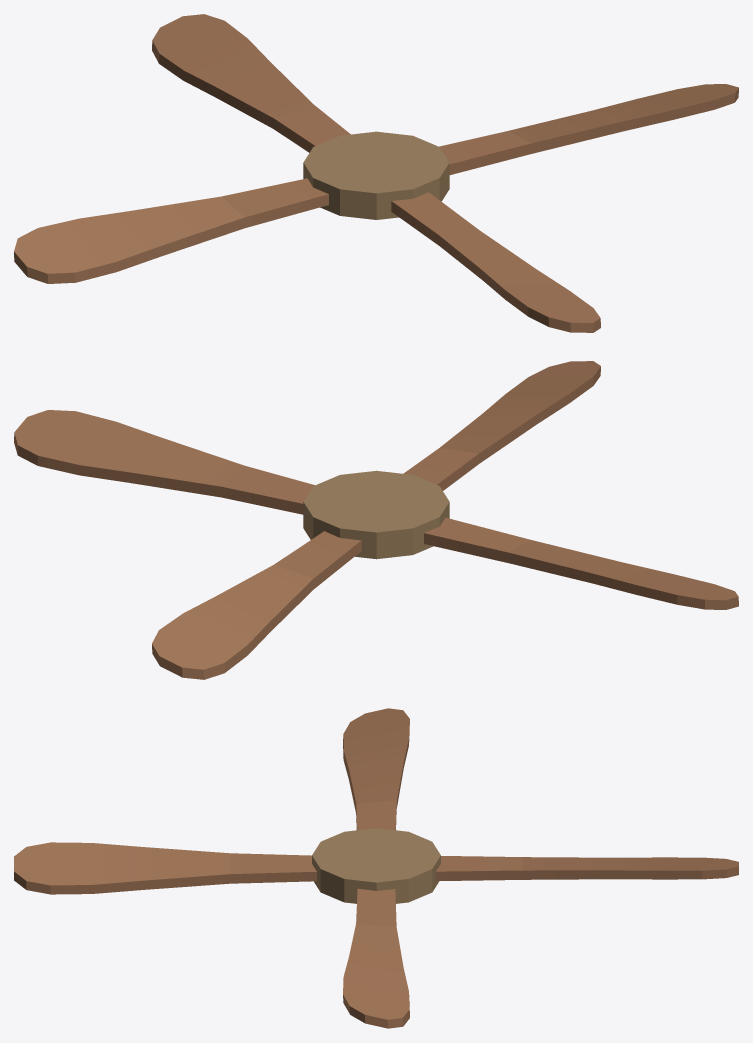
Rendered from SM_Prop_CeilingFan_02_Blades_01.obj.
3 views of the same model, one above another, from view 1: azimuth 30°, elevation 25°; view 2: azimuth 150°, elevation 25°; view 3: azimuth 270°, elevation 25° (orthographic). The views are drawn at different scales.
Parts seen in each view (by area): view 1: SM_Prop_CeilingFan_02_Blades_01_0; view 2: SM_Prop_CeilingFan_02_Blades_01_0; view 3: SM_Prop_CeilingFan_02_Blades_01_0.
Part boxes in pixels (x1,y1,x2,y2): SM_Prop_CeilingFan_02_Blades_01_0: (14,14,738,332); SM_Prop_CeilingFan_02_Blades_01_0: (14,361,738,679); SM_Prop_CeilingFan_02_Blades_01_0: (14,708,738,1028).
Size of the model in its own units: 2.33 by 0.0888 by 2.33.
Materials: 1 (1 with a texture image).
